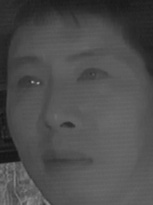eye: (72, 65, 110, 90), (13, 71, 48, 92)
mouth: (40, 144, 93, 178)
